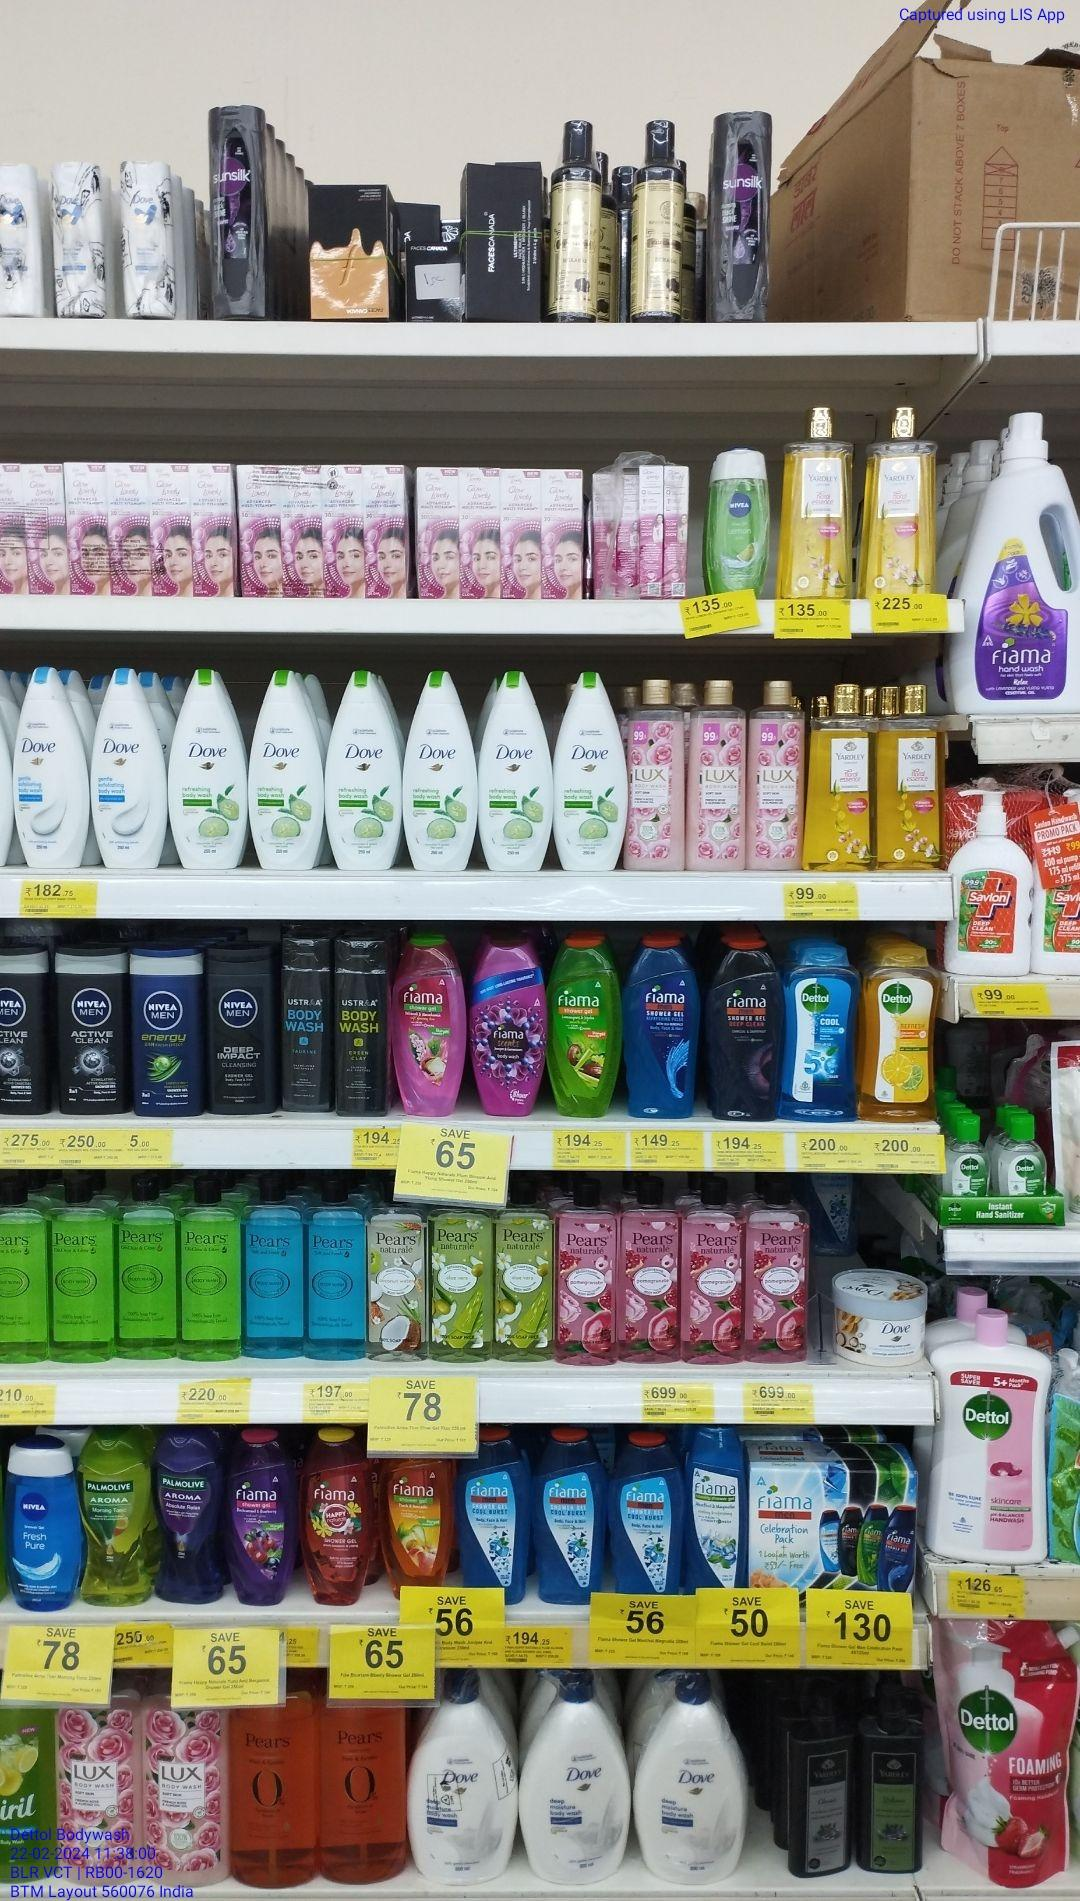Dettol_Bodywash_Cool: (398, 935, 466, 1115), (786, 941, 853, 1122)
Dettol_Bodywash_Refresh: (855, 948, 938, 1119)
Dove_Gentle_Exfoliating_Body_Wash_250ML: (12, 667, 87, 866), (94, 667, 165, 870)
Dove_Refreshing_Body_Wash_250ML: (168, 655, 247, 871), (556, 670, 629, 868), (401, 672, 475, 867), (328, 658, 396, 866), (479, 670, 551, 866), (251, 665, 320, 866)
Fiama_Shower_Gel_Peach_and_Avocado_250ML: (383, 1457, 453, 1585)
Nivea_Shower_Gel_Lemon_and_Oil_250ML: (704, 450, 769, 588)
Palmolive_Aroma_Morning_Tonic_Shower_Gel_250ML: (78, 1422, 148, 1607)
Palmolive_Aroma_Relax_250ML: (155, 1424, 218, 1605)
Pears_Naturale_Aloe_Vera_Body_Wash_250ML: (428, 1195, 490, 1362), (496, 1213, 554, 1362)
Pears_Pure_Glycerin_and_Lemon_Flower_Extracts_Body_Wash_250ML: (52, 1166, 118, 1360), (180, 1172, 240, 1358), (121, 1174, 175, 1358), (0, 1174, 50, 1363)
Pears_Pure_Glycerin_and_Mint_Extracts_Body_Wash_250ML: (310, 1171, 366, 1359), (248, 1174, 304, 1354)
